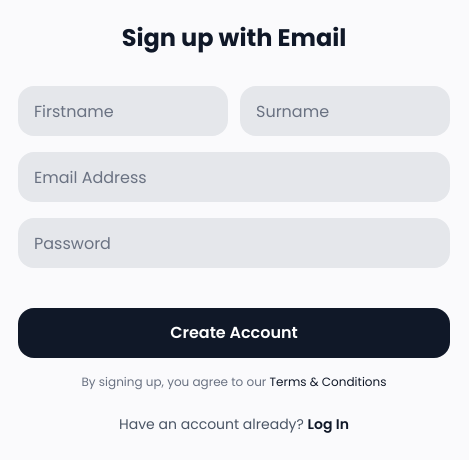
Test case: RegisterPage › shows backend error messages from server
The width and height of the screenshot is (469, 460).
Type "Carlo" into the field with placeholder "Firstname" at (123, 111), box [18,86,228,136]
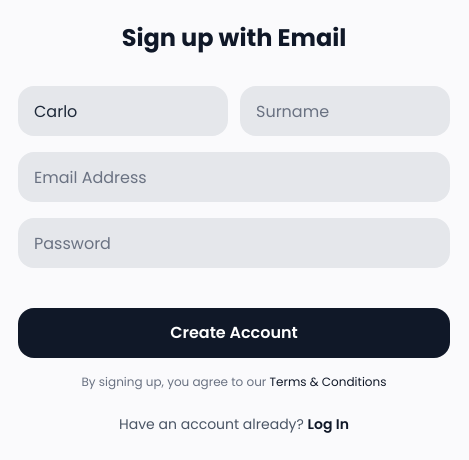
Type "D." into the field with placeholder "Surname" at (345, 111), box [240,86,450,136]
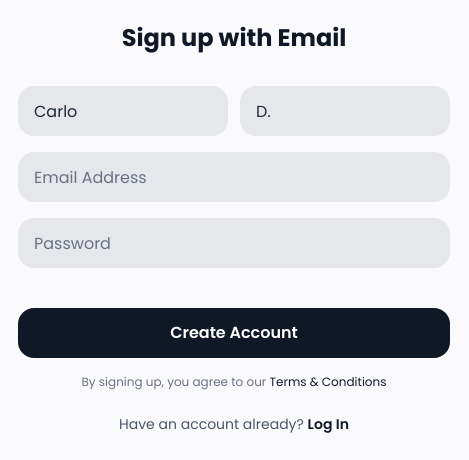
Type "carlo@example.com" into the field with placeholder "Email Address" at (234, 177), box [18,152,450,202]
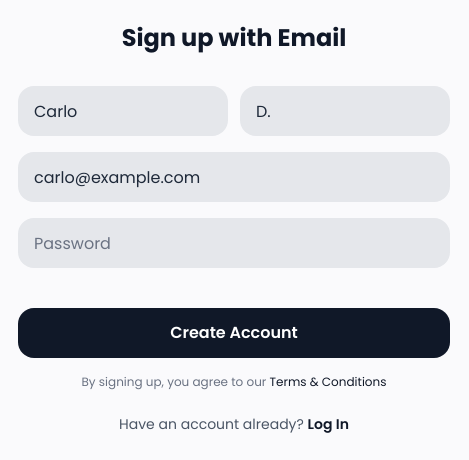
Type "password123" into the password field with placeholder "Password" at (234, 243), box [18,218,450,268]
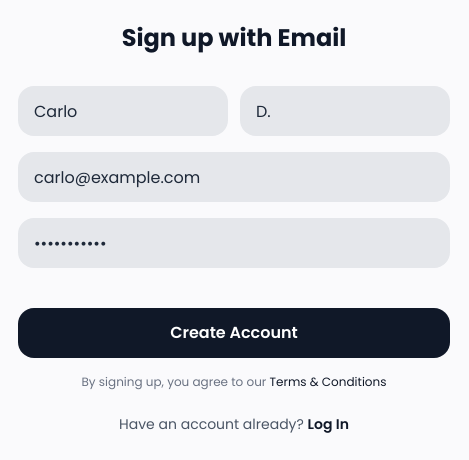
Click the button "Create Account" at (234, 333), box [18,308,450,358]
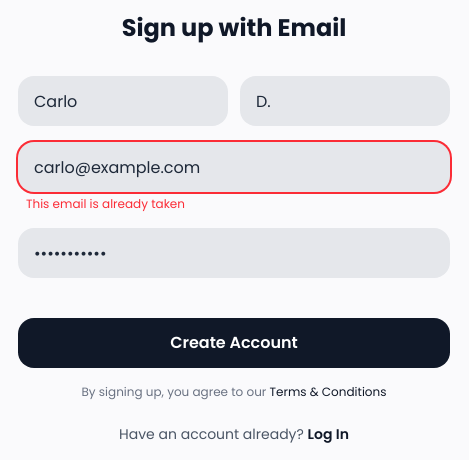
Expected: the text "This email is already taken" is shown, [26,195,185,212]
